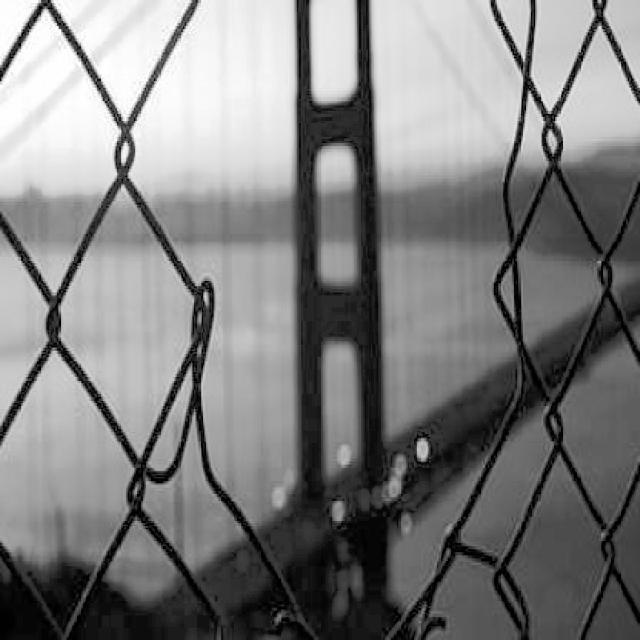anomaly-fence: (107, 0, 628, 636)
